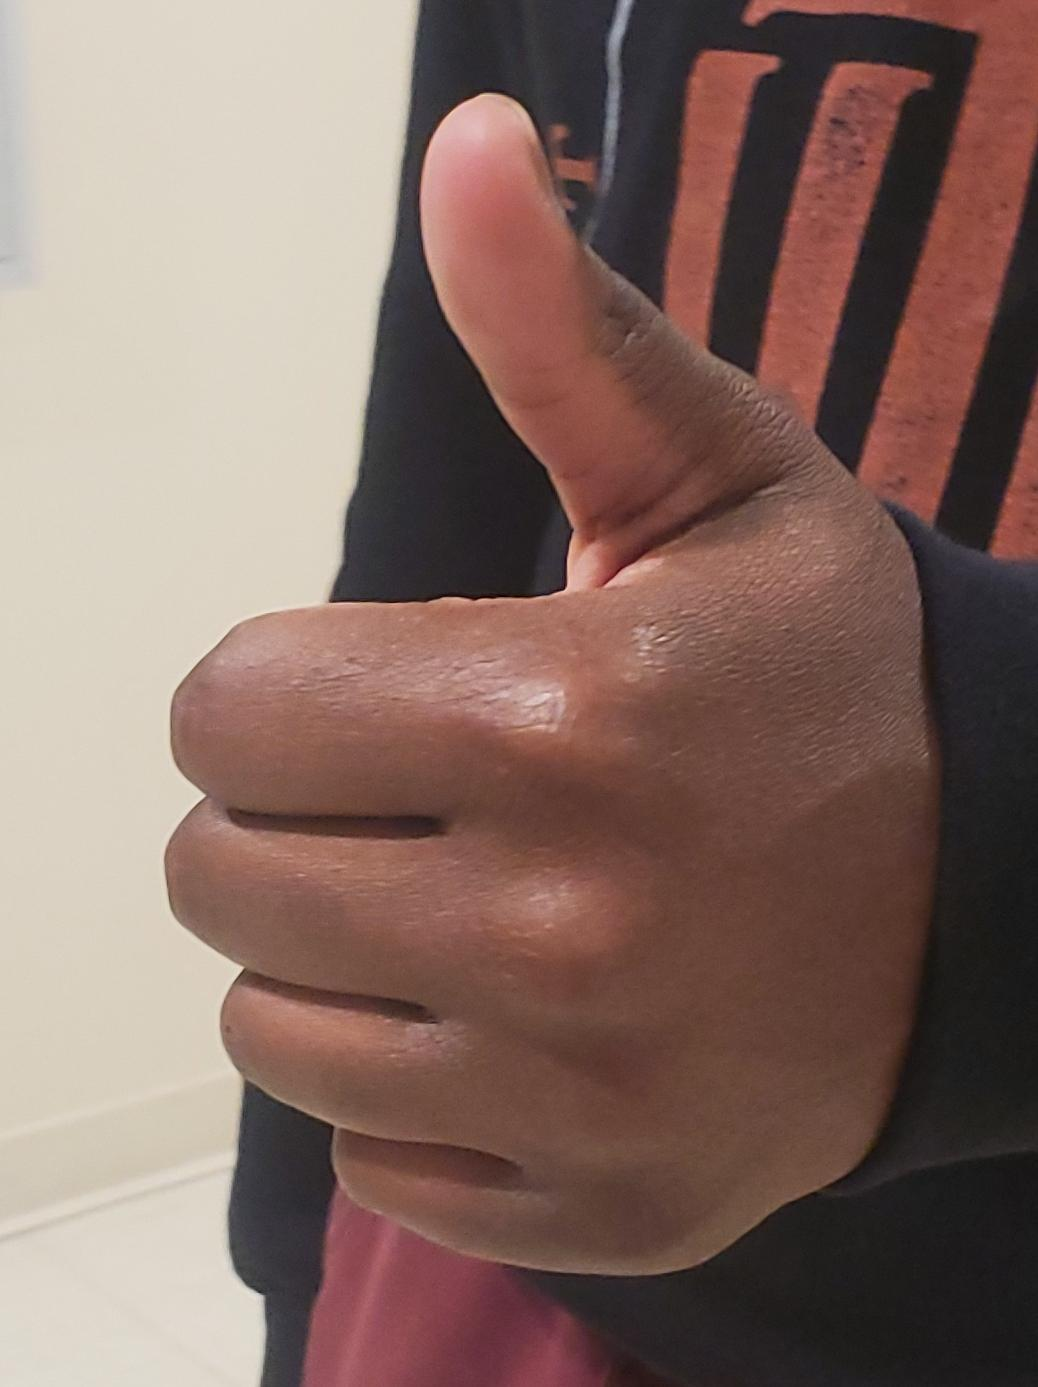up: (0, 1, 1038, 1387)
